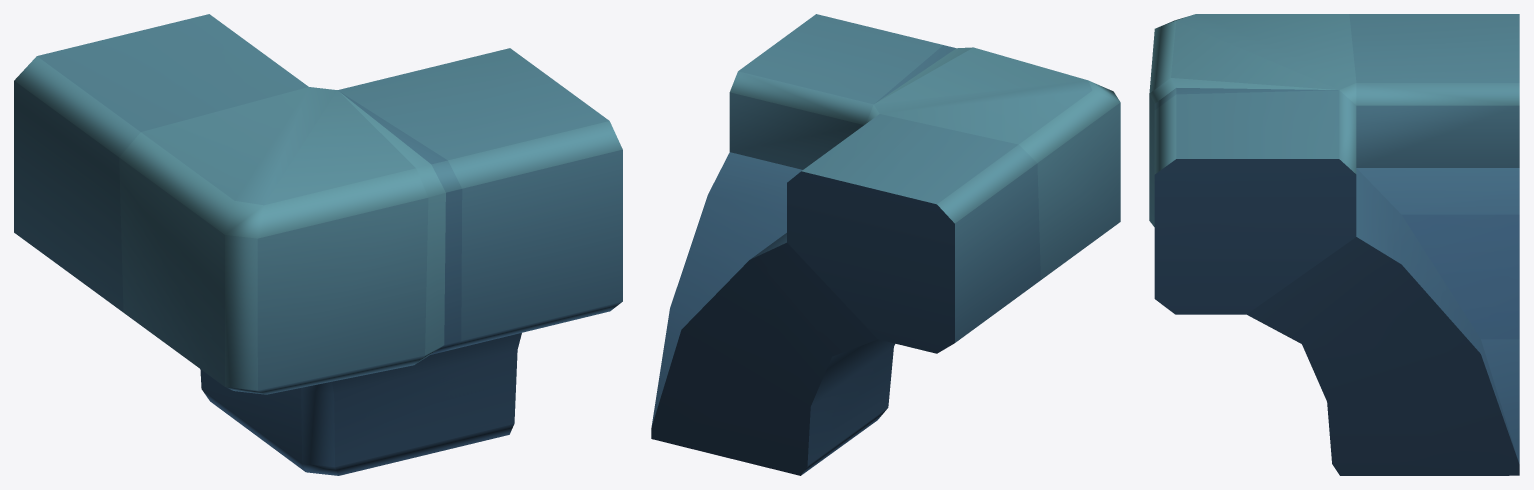
Rendered from wall_corner_convex_top.fbx.
3 views of the same model, side by side, from view 1: azimuth 30°, elevation 25°; view 2: azimuth 150°, elevation 25°; view 3: azimuth 270°, elevation 25° (orthographic). The views are drawn at different scales.
Parts seen in each view (by area): view 1: wall_corner_convex_top; view 2: wall_corner_convex_top; view 3: wall_corner_convex_top.
Part boxes in pixels (x1=…): wall_corner_convex_top: x1=14, y1=14, x2=622, y2=475; wall_corner_convex_top: x1=651, y1=14, x2=1120, y2=475; wall_corner_convex_top: x1=1149, y1=14, x2=1519, y2=475.
Bounding box in the file's own units: 213 × 206 × 216.
